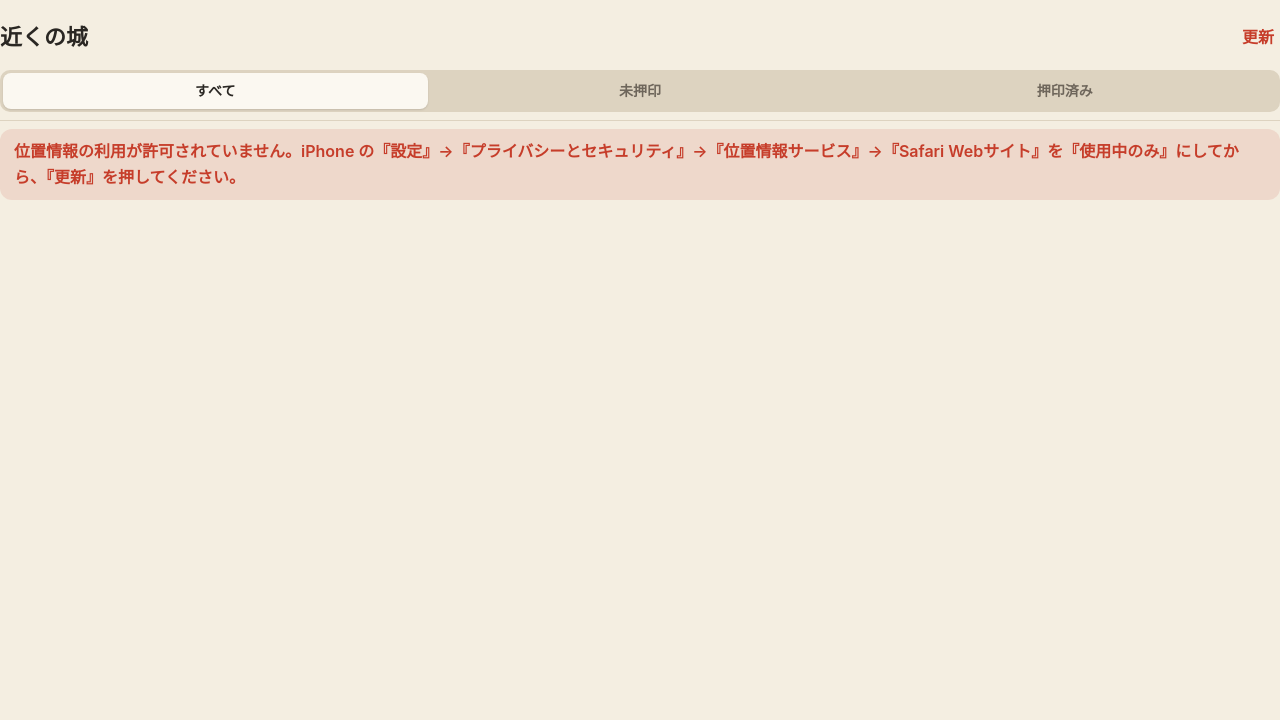
Test: NearbyPage：更新 › 取得に失敗したあとも「更新」で取り直せる
Expected: the message is shown, [0,129,1279,200]
Click the button "更新": (1258, 38) [1236,16,1279,60]
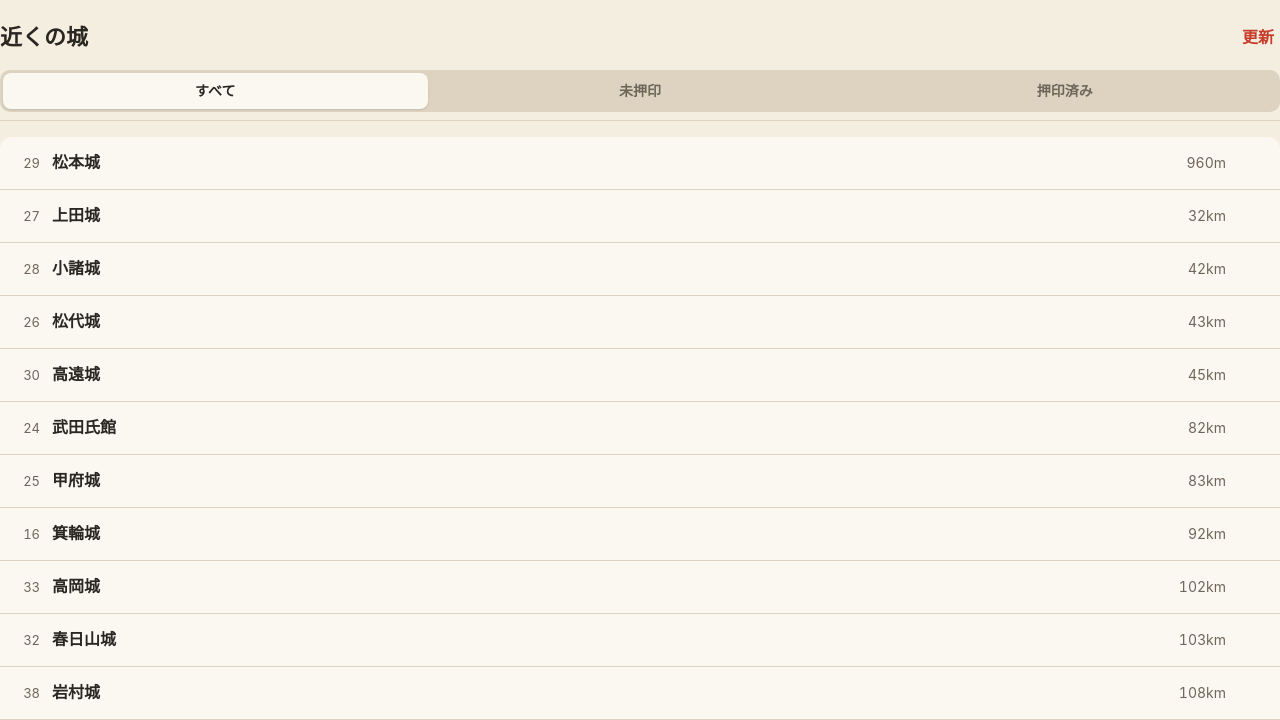
Now the number of list items is 100
Now the message is gone
